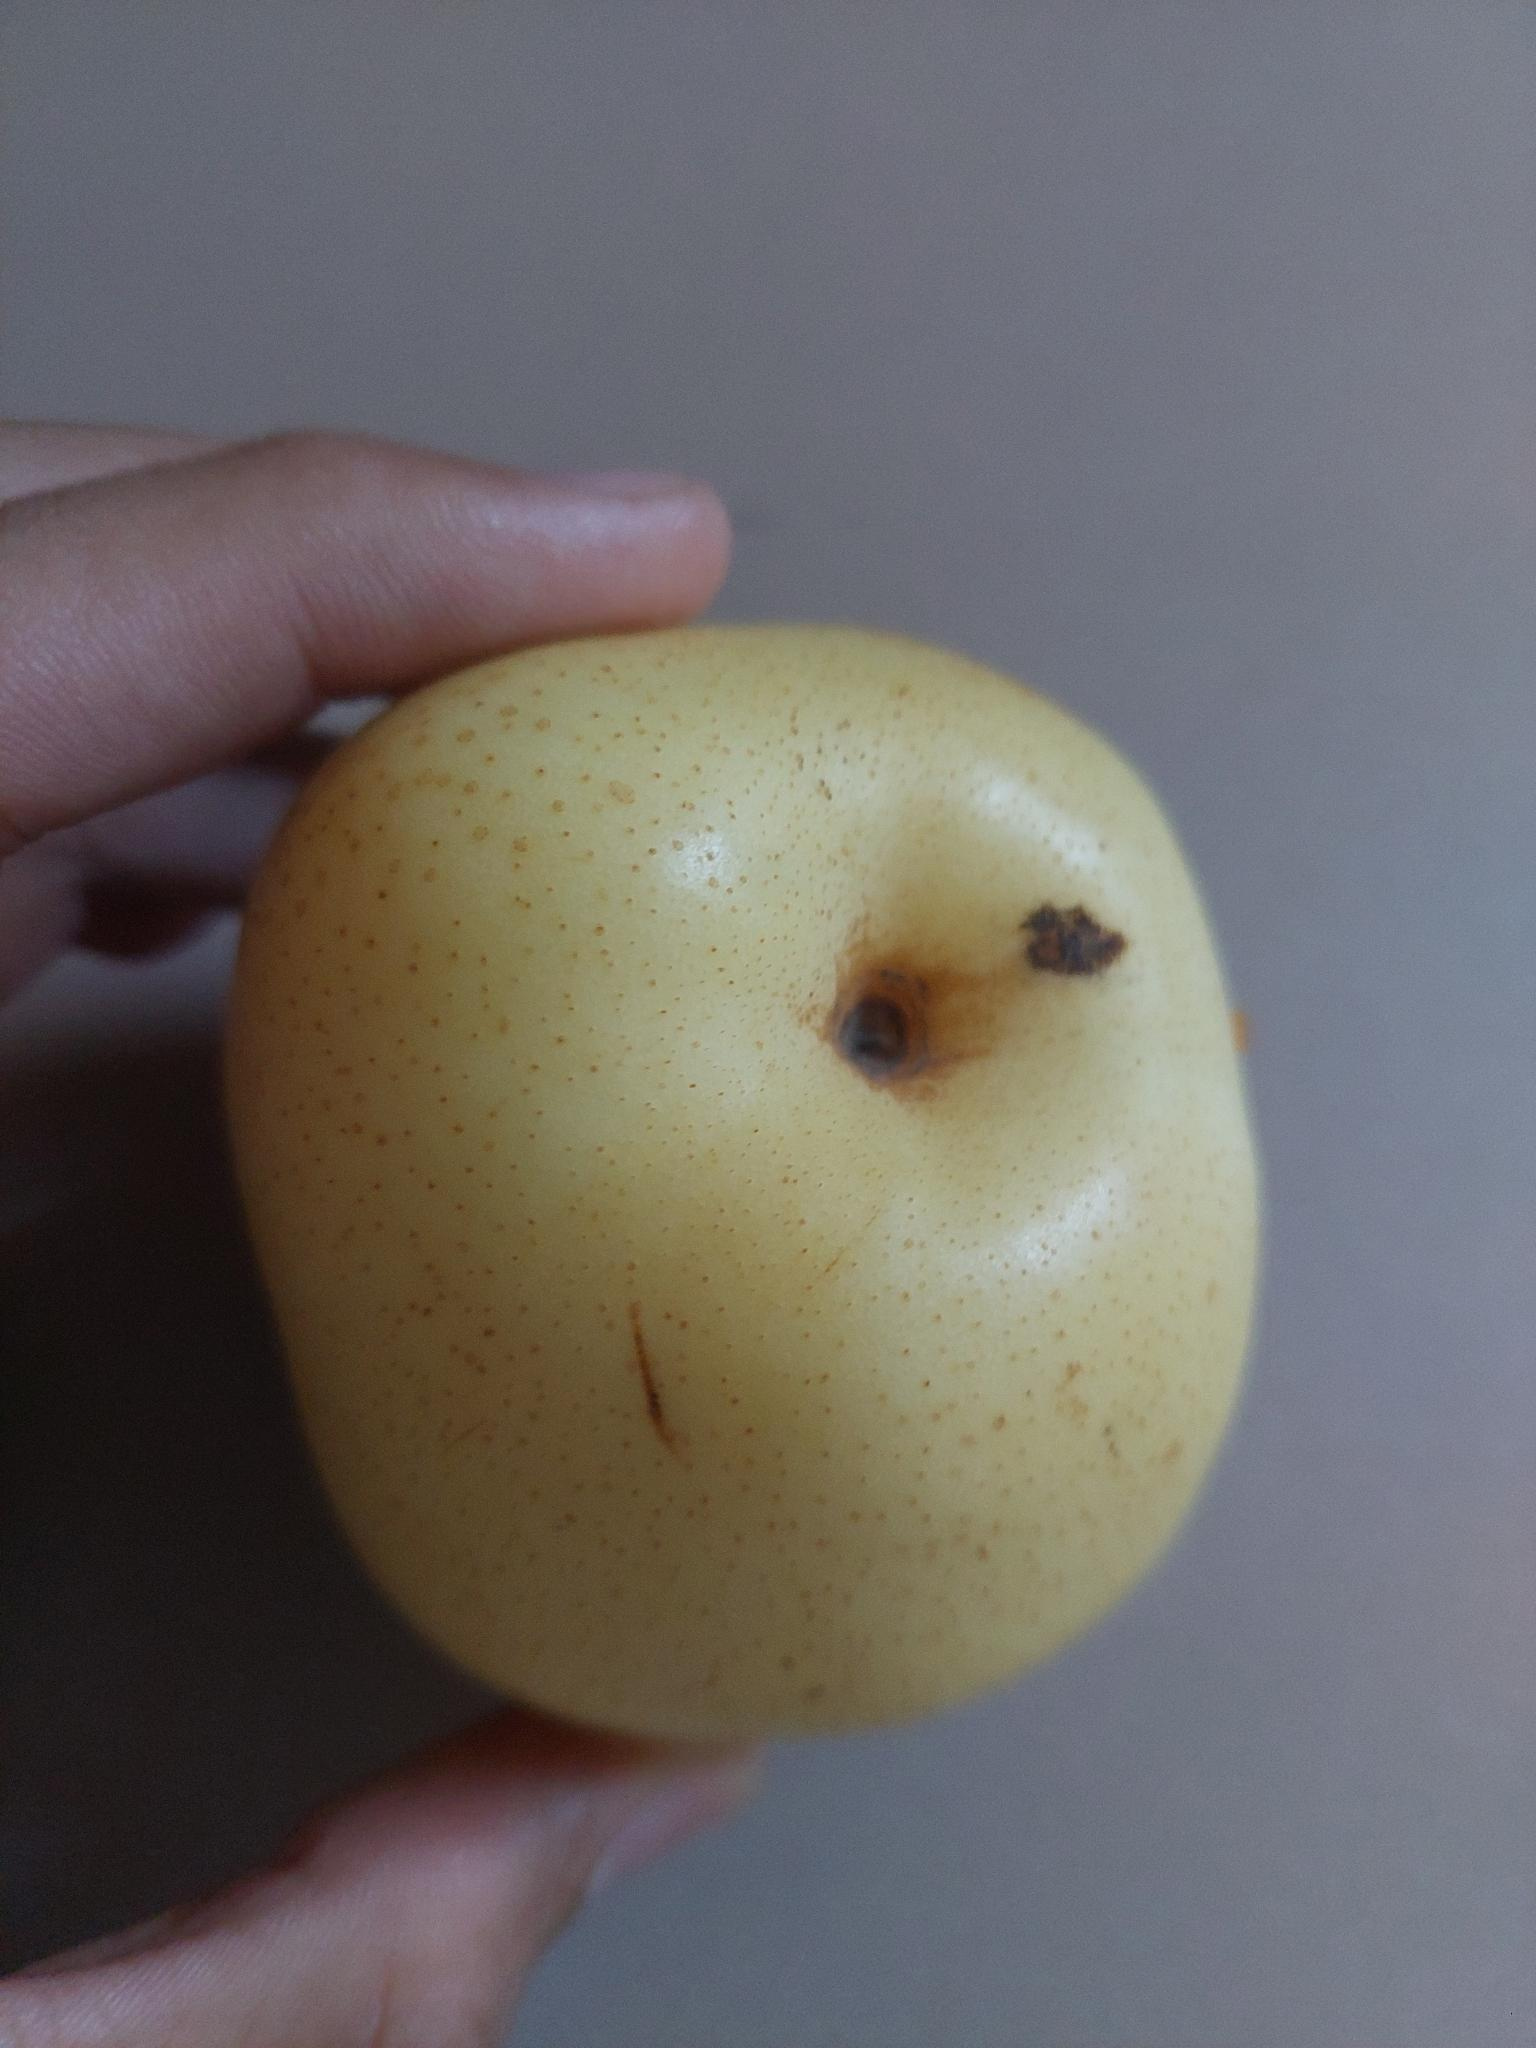Good Pear: (224, 606, 1267, 1759)
